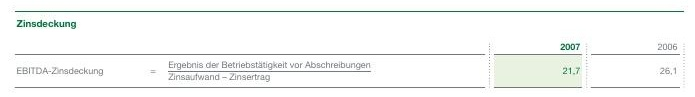table: (0, 0, 695, 97)
